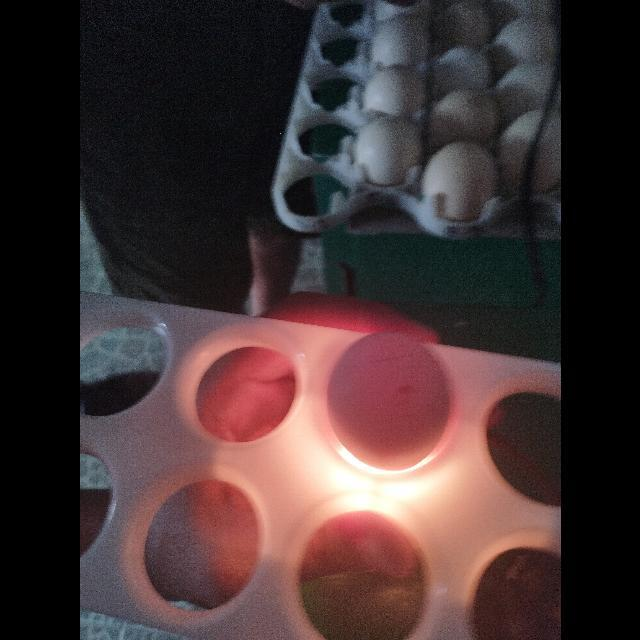Fertile: (324, 330, 454, 472)
